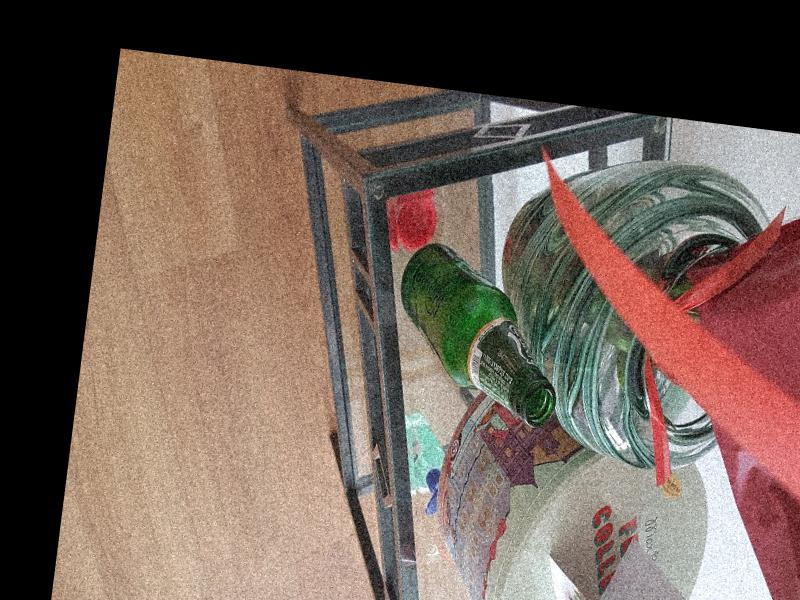Beer: (386, 237, 572, 428)
